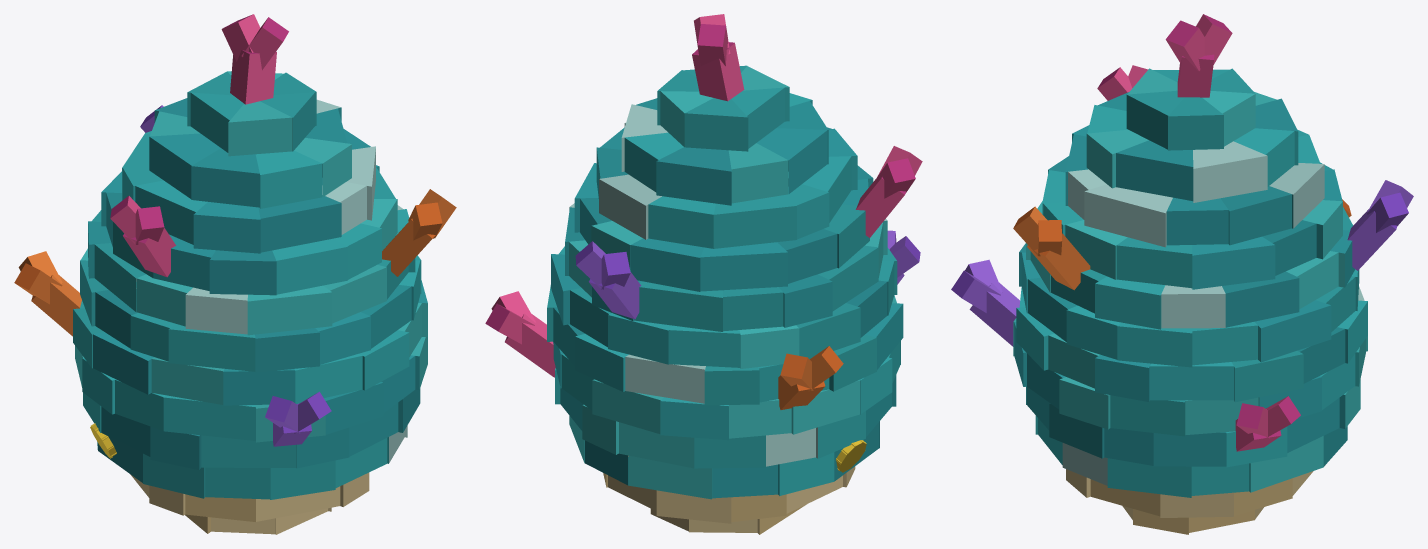
File: coral_egg.glb
3 renders of one model, left to right at view 1: azimuth 30°, elevation 25°; view 2: azimuth 150°, elevation 25°; view 3: azimuth 270°, elevation 25°, orthographic.
Visible parts, largest first — view 1: coral_egg; view 2: coral_egg; view 3: coral_egg.
Boxes of the visible parts, x1,y1,x2,y2 form: coral_egg: (14,14,456,534); coral_egg: (485,14,922,534); coral_egg: (951,14,1413,534).
Bounding box in the file's own units: 1.05 × 1.29 × 1.13.
